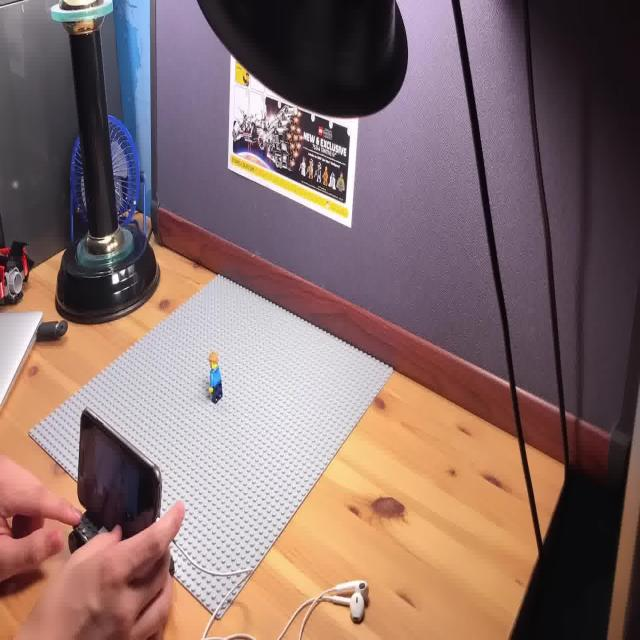figure: (22, 276, 394, 622), (208, 348, 224, 405)
